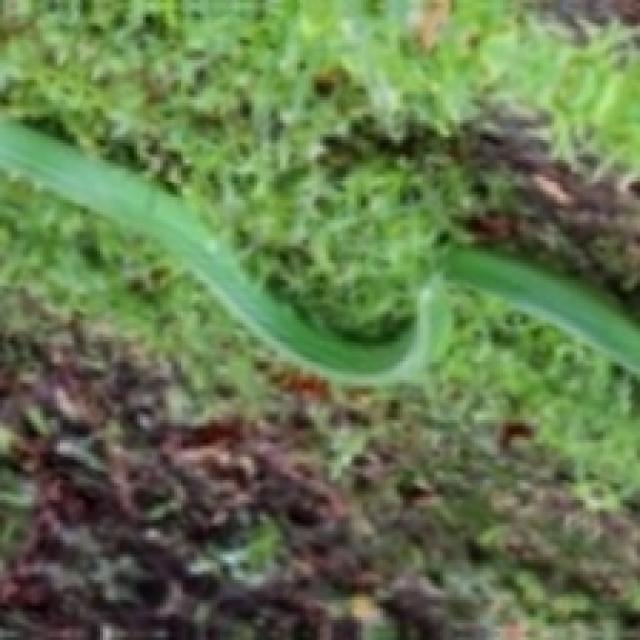red-tailed green ratsnake: (0, 123, 640, 384)
